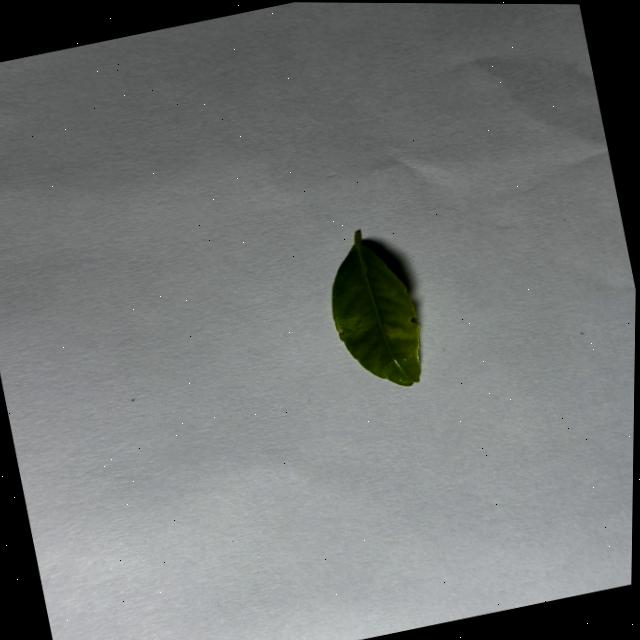greening: (331, 230, 419, 384)
